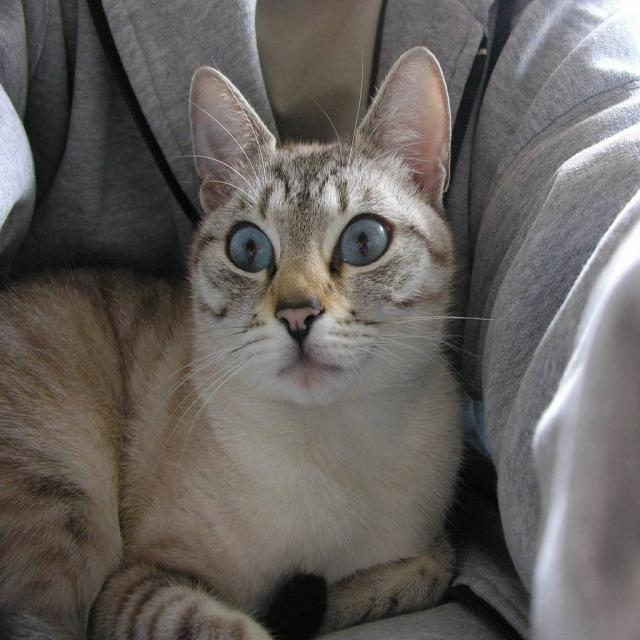Cat: (0, 43, 504, 639)
